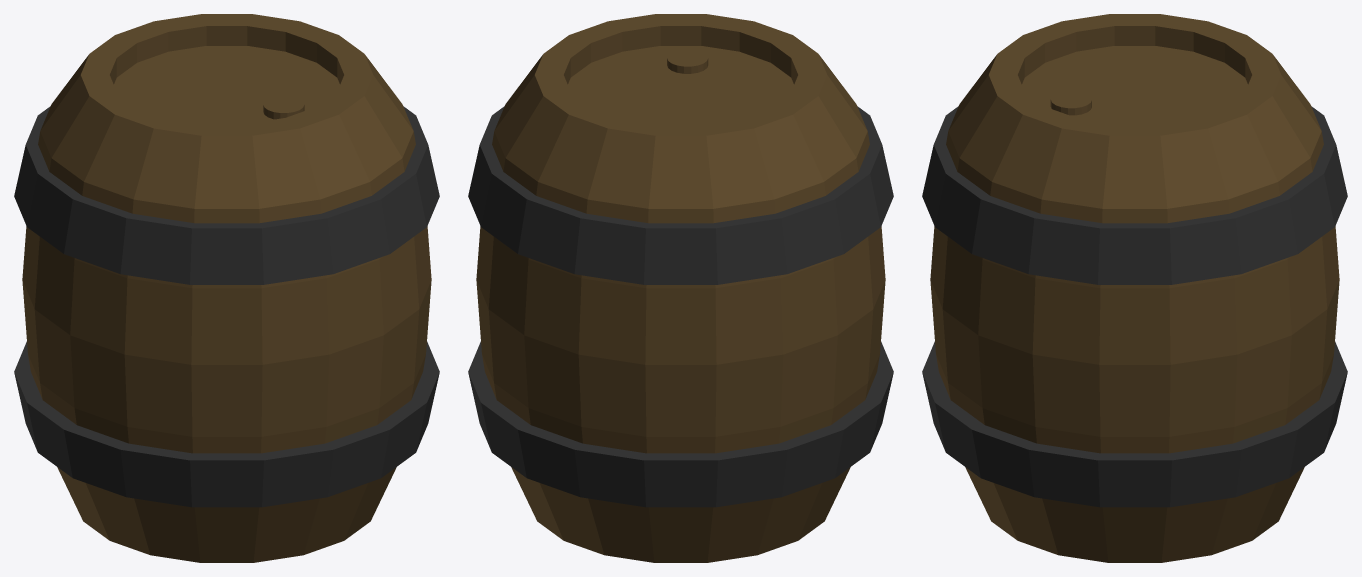
The model's file is Barrel.fbx.
3 renders of one model, left to right at view 1: azimuth 30°, elevation 25°; view 2: azimuth 150°, elevation 25°; view 3: azimuth 270°, elevation 25°, orthographic.
Parts seen in each view (by area): view 1: Cylinder, Cylinder.002, Cylinder.001; view 2: Cylinder, Cylinder.002, Cylinder.001; view 3: Cylinder, Cylinder.002, Cylinder.001.
Boxes of the visible parts, x1=… form: Cylinder: x1=22, y1=14, x2=431, y2=562; Cylinder.002: x1=14, y1=106, x2=439, y2=284; Cylinder.001: x1=14, y1=341, x2=439, y2=507; Cylinder: x1=476, y1=14, x2=885, y2=562; Cylinder.002: x1=468, y1=106, x2=893, y2=284; Cylinder.001: x1=468, y1=341, x2=893, y2=507; Cylinder: x1=930, y1=14, x2=1339, y2=562; Cylinder.002: x1=922, y1=106, x2=1347, y2=284; Cylinder.001: x1=922, y1=341, x2=1347, y2=507.
Bounding box in the file's own units: 225 × 251 × 228.
